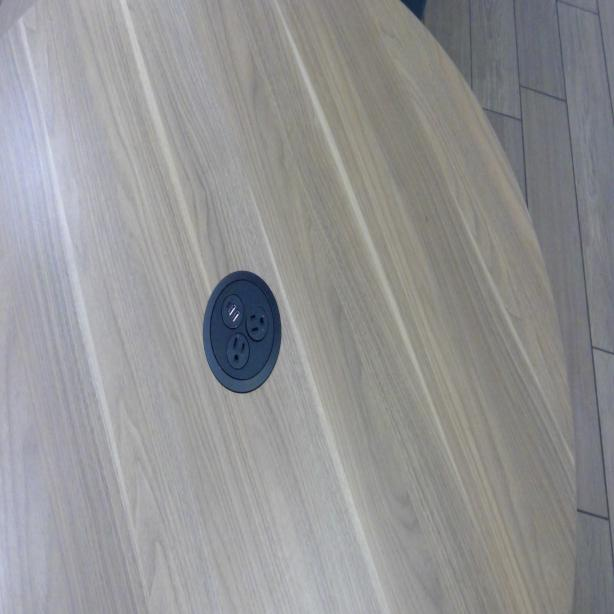typeb: (228, 334, 247, 367), (248, 304, 266, 337)
